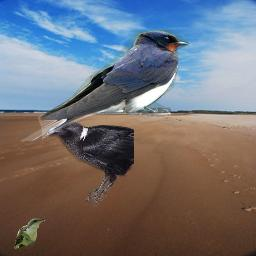Crow: (46, 121, 134, 207)
Cuckoo: (14, 218, 45, 249)
Swallow: (21, 30, 189, 147)
